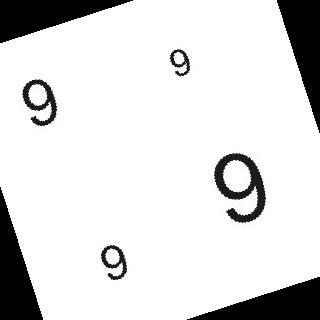nine: (203, 151, 277, 225), (15, 77, 67, 128), (94, 243, 133, 282), (166, 48, 196, 78)
